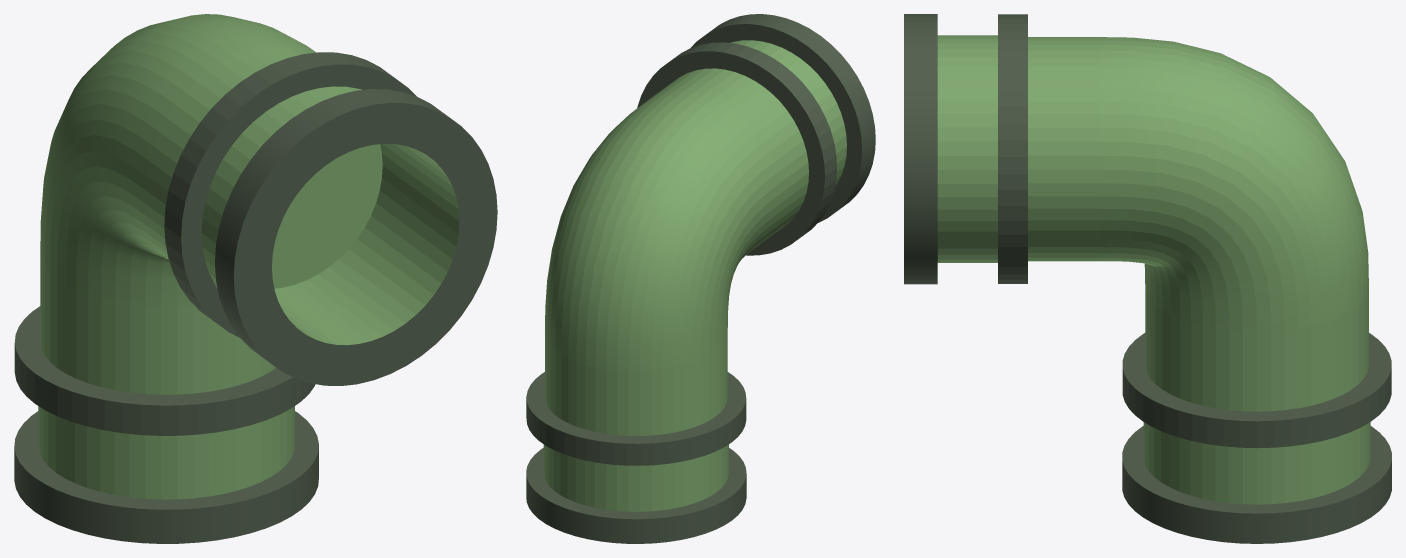
The model's file is pipe.fbx.
3 renders of one model, left to right at view 1: azimuth 30°, elevation 25°; view 2: azimuth 150°, elevation 25°; view 3: azimuth 270°, elevation 25°, orthographic. The views are drawn at different scales.
Visible parts, largest first — view 1: pCylinder3; view 2: pCylinder3; view 3: pCylinder3.
Part boxes in pixels (box(x1,y1,x2,y2)): pCylinder3: box(14, 14, 497, 543); pCylinder3: box(526, 14, 875, 543); pCylinder3: box(904, 14, 1391, 543).
Size of the model in its own units: 216 by 406 by 390.
